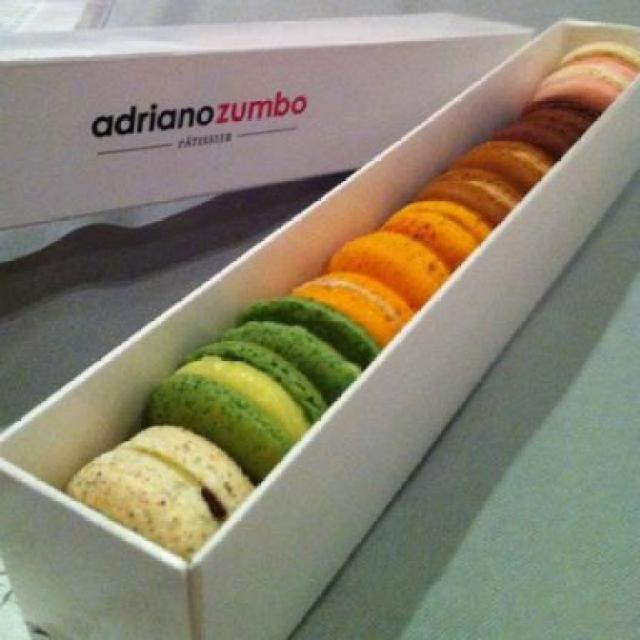Macaron: (58, 29, 640, 574)
